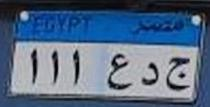1: (69, 48, 84, 86), (47, 49, 62, 86), (28, 46, 41, 84)
ain: (104, 51, 134, 95)
daal: (138, 60, 161, 91)
jeem: (164, 55, 191, 94)
